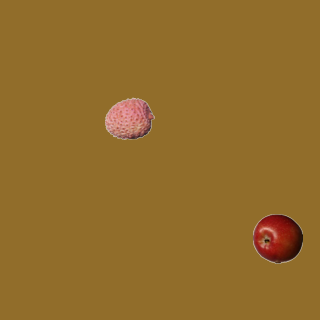Apple Braeburn: (252, 213, 302, 263)
Lychee: (104, 93, 154, 143)
